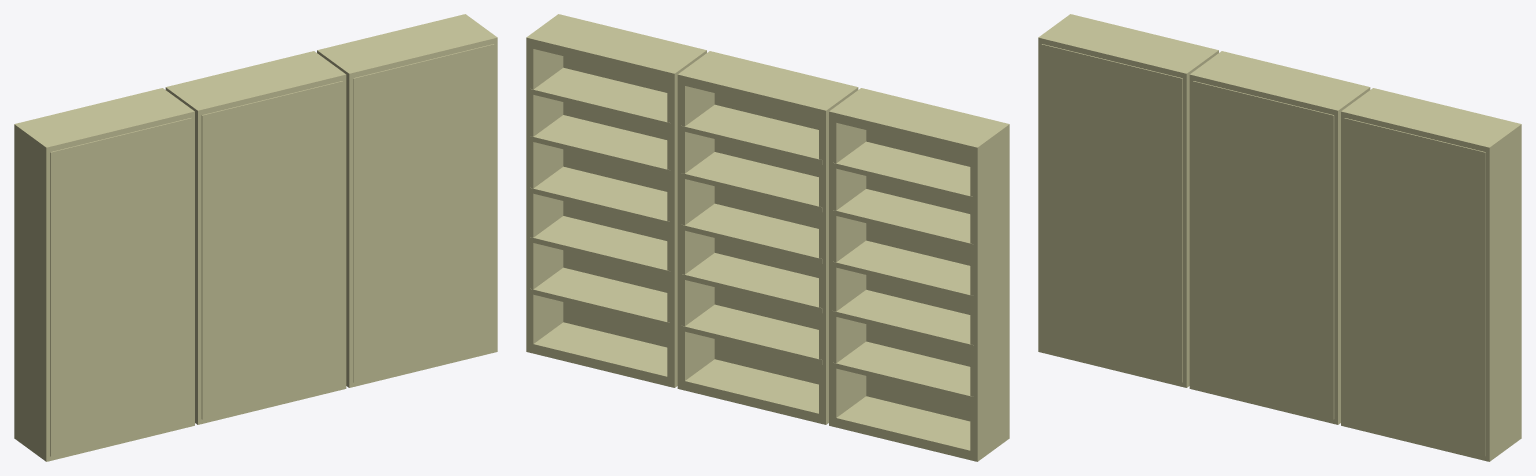
The model's file is Shelves.fbx.
3 renders of one model, left to right at view 1: azimuth 30°, elevation 25°; view 2: azimuth 150°, elevation 25°; view 3: azimuth 330°, elevation 25°, orthographic.
Parts seen in each view (by area): view 1: Cube; view 2: Cube; view 3: Cube.
Boxes of the visible parts, x1,y1,x2,y2 form: Cube: (14, 14, 497, 461); Cube: (526, 14, 1009, 461); Cube: (1038, 14, 1521, 461).
Size of the model in its own units: 411 by 273 by 51.96.
